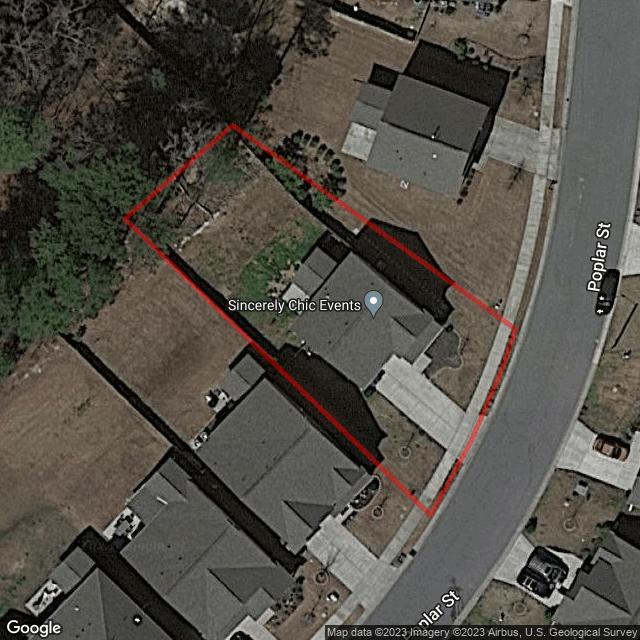Driveway: (375, 354, 464, 447)
Extra Driveway: (458, 416, 492, 468), (448, 412, 476, 458)
Extra Lawn: (479, 330, 521, 417), (428, 459, 464, 513)
House: (282, 247, 441, 389)
Sidewalk: (466, 323, 510, 417), (419, 451, 456, 505)
